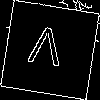V: (25, 25, 65, 76)
